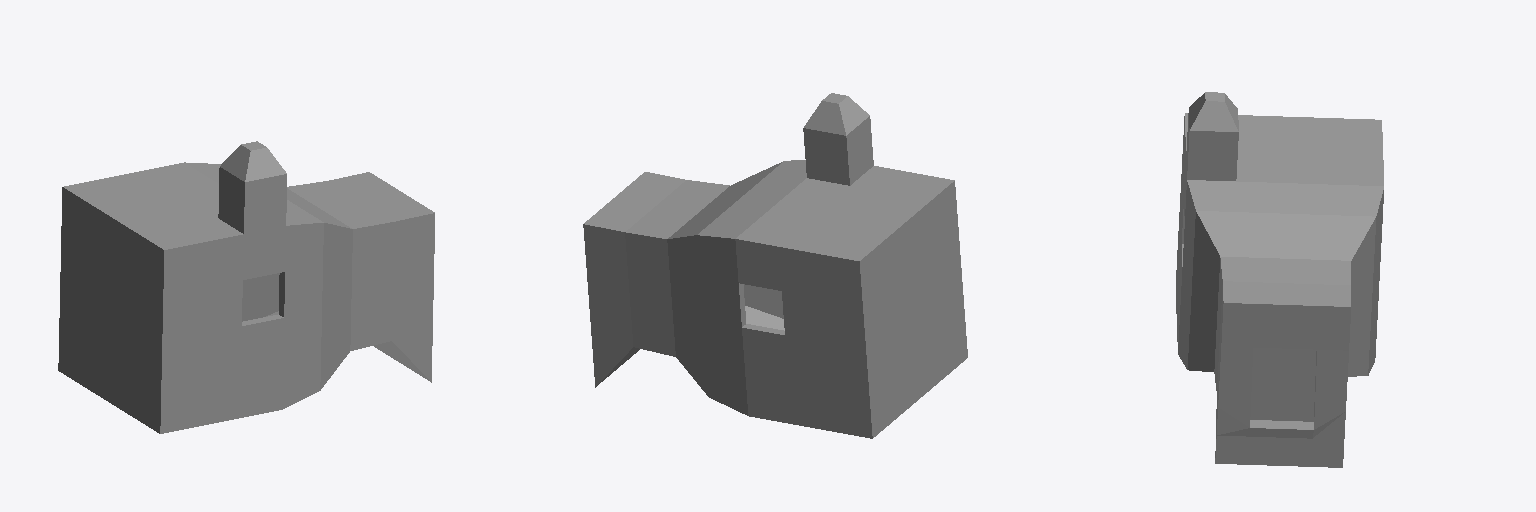
Rendered from house.obj.
3 renders of one model, left to right at view 1: azimuth 30°, elevation 25°; view 2: azimuth 150°, elevation 25°; view 3: azimuth 270°, elevation 25°, orthographic.
Visible parts, largest first — view 1: house_Cube.001; view 2: house_Cube.001; view 3: house_Cube.001.
Boxes of the visible parts, box(x1,y1,x2,y2) form: house_Cube.001: box(58, 141, 434, 433); house_Cube.001: box(583, 93, 967, 438); house_Cube.001: box(1176, 92, 1383, 467).
Size of the model in its own units: 0.7568 by 0.6845 by 0.4528.